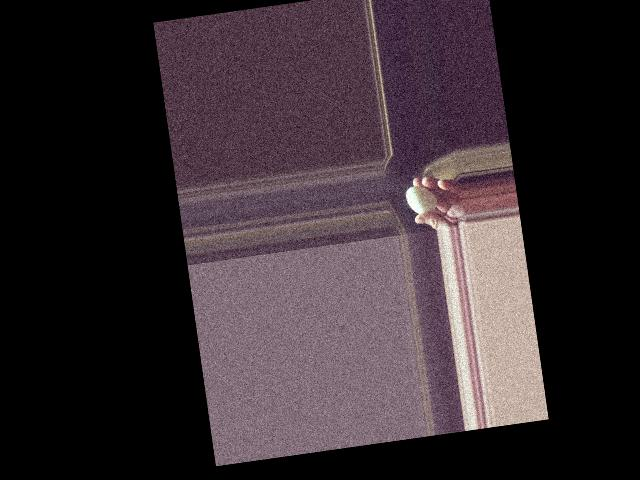egg: (405, 183, 438, 215)
